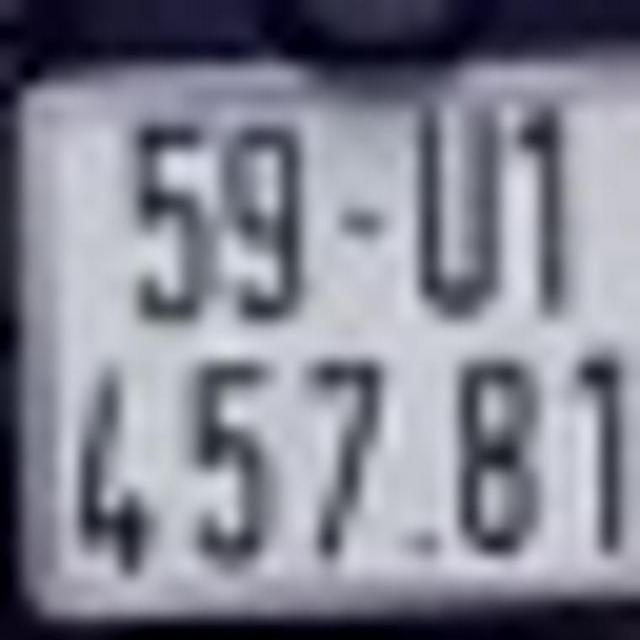1: (516, 108, 564, 311), (580, 356, 624, 554)
4: (78, 368, 149, 569)
5: (132, 123, 208, 319), (197, 360, 270, 562)
7: (310, 359, 384, 560)
8: (459, 358, 538, 556)
9: (220, 128, 304, 321)
U: (416, 102, 498, 316)
